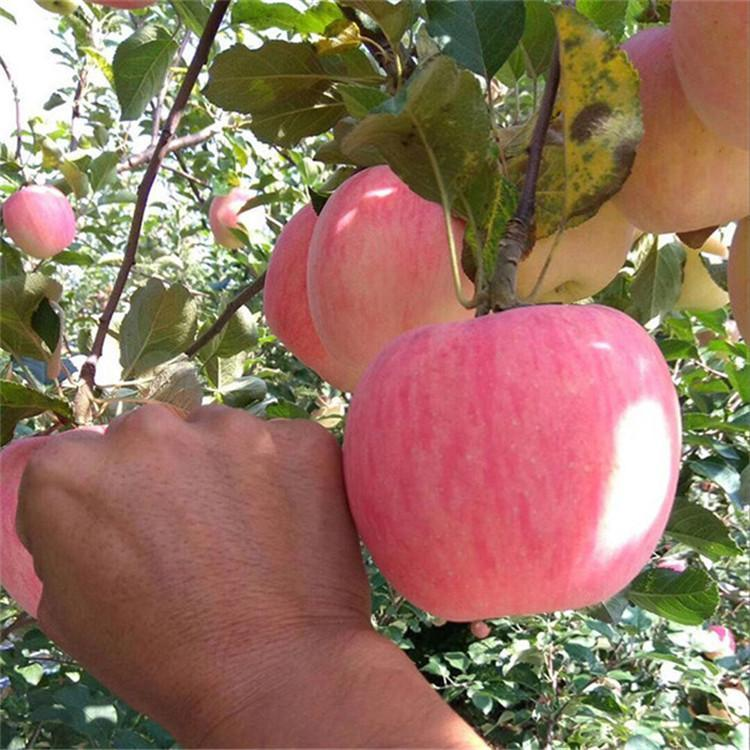apple: (341, 304, 681, 619), (307, 163, 491, 386), (611, 29, 750, 235), (489, 128, 638, 301), (3, 185, 78, 257), (207, 191, 266, 250)
